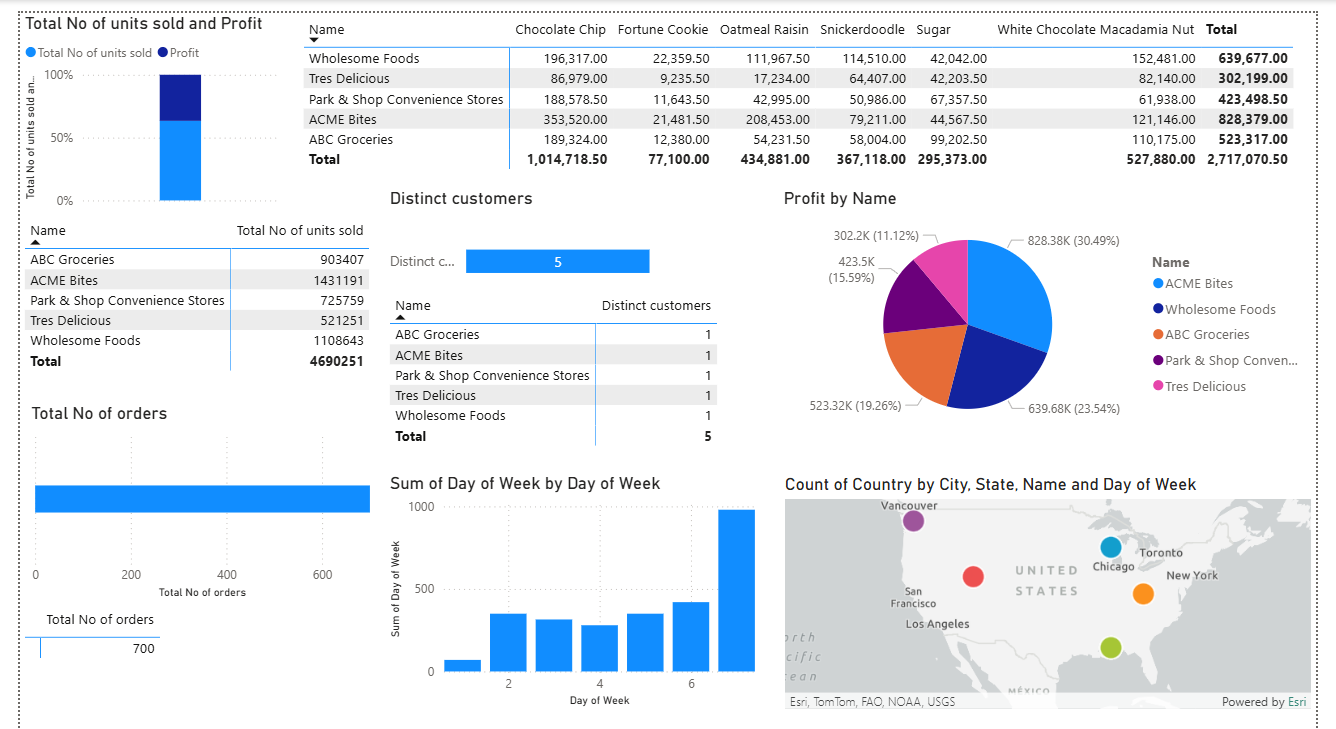

The page's visual inventory and layout, read from the dashboard file:
{"tool":"powerbi","page":{"name":"Page 1","canvas":[1280,720],"ordinal":0},"visuals":[{"type":"hundredPercentStackedColumnChart","fields":{"Y":["Orders.Total No of units sold","Orders.Profit"]},"box":[0,0,261.7,199.3],"z":0},{"type":"pivotTable","fields":{"Values":["Orders.Total No of units sold"],"Rows":["Customers.Name"]},"box":[0,199.3,360.7,199.3],"z":1000},{"type":"clusteredBarChart","fields":{"Y":["Orders.Total No of orders"]},"box":[6.1,385.2,354.6,198.1],"z":2000},{"type":"pivotTable","fields":{"Values":["Orders.Total No of orders"]},"box":[0,583.3,360.7,64.8],"z":3000},{"type":"funnel","fields":{"Y":["Orders.Distinct customers"]},"box":[360.7,172.4,271.5,126],"z":5000},{"type":"pivotTable","fields":{"Values":["Orders.Distinct customers"],"Rows":["Customers.Name"]},"box":[360.7,272.7,370.5,172.4],"z":5500},{"type":"pivotTable","fields":{"Values":["Orders.Profit"],"Rows":["Customers.Name"],"Columns":["Orders.Product"]},"box":[275.1,0,1005.2,172.4],"z":6000},{"type":"pieChart","fields":{"Y":["Orders.Profit"],"Category":["Customers.Name"]},"box":[749.6,172.4,530.7,250.7],"z":7000},{"type":"columnChart","fields":{"Category":["Orders.Day of Week"],"Y":["Orders.Day of Week"]},"box":[360.7,454.9,370.5,236],"z":8000},{"type":"esriVisual","fields":{"Location":["Customers.City"],"Color":["Customers.Name"],"Time":["Orders.Day of Week"],"Latitude":["Customers.State"],"Size":["Customers.Country"]},"box":[750,455,530,236],"z":8001}]}

Visuals, with their boxes on the page's 1280x720 design canvas (x1, y1, x2, y2). These are canvas units, not pixel positions in the 1336x729 screenshot, which may show the page scaled, cropped or inside an application window:
hundredPercentStackedColumnChart - Orders.Total No of units sold x Orders.Profit: <region>0, 0, 262, 199</region>
pivotTable - Orders.Total No of units sold x Customers.Name: <region>0, 199, 361, 399</region>
clusteredBarChart - Orders.Total No of orders: <region>6, 385, 361, 583</region>
pivotTable - Orders.Total No of orders: <region>0, 583, 361, 648</region>
funnel - Orders.Distinct customers: <region>361, 172, 632, 298</region>
pivotTable - Orders.Distinct customers x Customers.Name: <region>361, 273, 731, 445</region>
pivotTable - Orders.Profit x Customers.Name: <region>275, 0, 1280, 172</region>
pieChart - Orders.Profit x Customers.Name: <region>750, 172, 1280, 423</region>
columnChart - Orders.Day of Week x Orders.Day of Week: <region>361, 455, 731, 691</region>
esriVisual - Customers.City x Customers.Name: <region>750, 455, 1280, 691</region>
